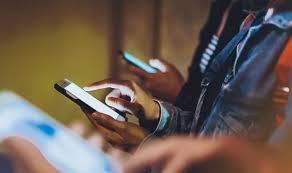Hand: (92, 76, 157, 118), (88, 113, 158, 143), (136, 53, 186, 95)
Smartphone: (58, 80, 125, 125), (118, 50, 160, 76)
